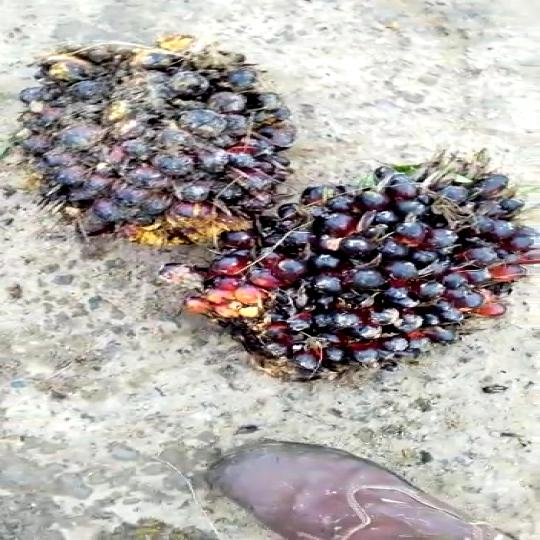kurang masak: (186, 156, 522, 384), (0, 39, 299, 248)
